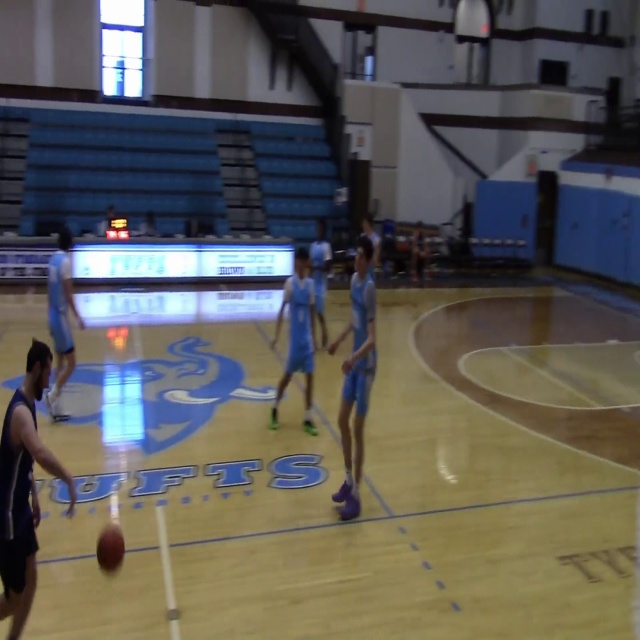Basketball: (96, 522, 125, 572)
